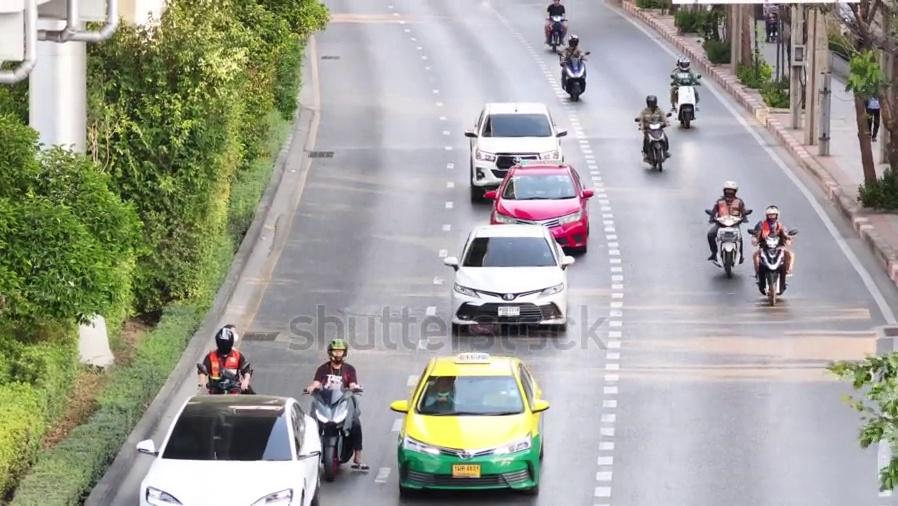person: (424, 376, 455, 412), (863, 94, 880, 141)
rider: (305, 337, 369, 470), (195, 324, 254, 394), (747, 204, 795, 280), (705, 180, 749, 262), (634, 94, 670, 161), (668, 55, 701, 112), (560, 36, 590, 94), (544, 0, 567, 45)
with_helmate: (325, 340, 346, 364), (764, 204, 782, 224), (216, 331, 233, 351), (719, 180, 739, 196), (677, 59, 693, 71), (644, 94, 659, 106), (568, 35, 581, 48)
